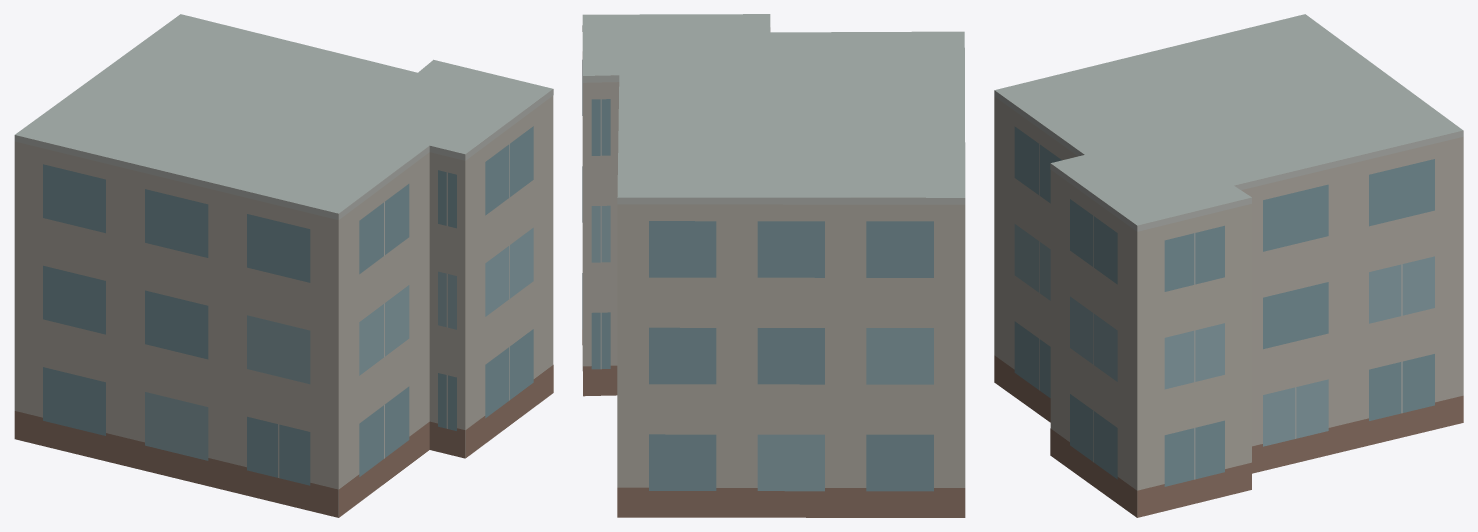
The model's file is survey-upis-32595994.glb.
3 renders of one model, left to right at view 1: azimuth 30°, elevation 25°; view 2: azimuth 150°, elevation 25°; view 3: azimuth 270°, elevation 25°, orthographic. The views are drawn at different scales.
Parts seen in each view (by area): view 1: survey-upis-32595994.tmp; view 2: survey-upis-32595994.tmp; view 3: survey-upis-32595994.tmp.
Part boxes in pixels (x1,y1,x2,y2): survey-upis-32595994.tmp: [14, 14, 553, 517]; survey-upis-32595994.tmp: [582, 14, 965, 517]; survey-upis-32595994.tmp: [994, 14, 1463, 517].
Bounding box in the file's own units: 17.71 × 11.4 × 16.59.
